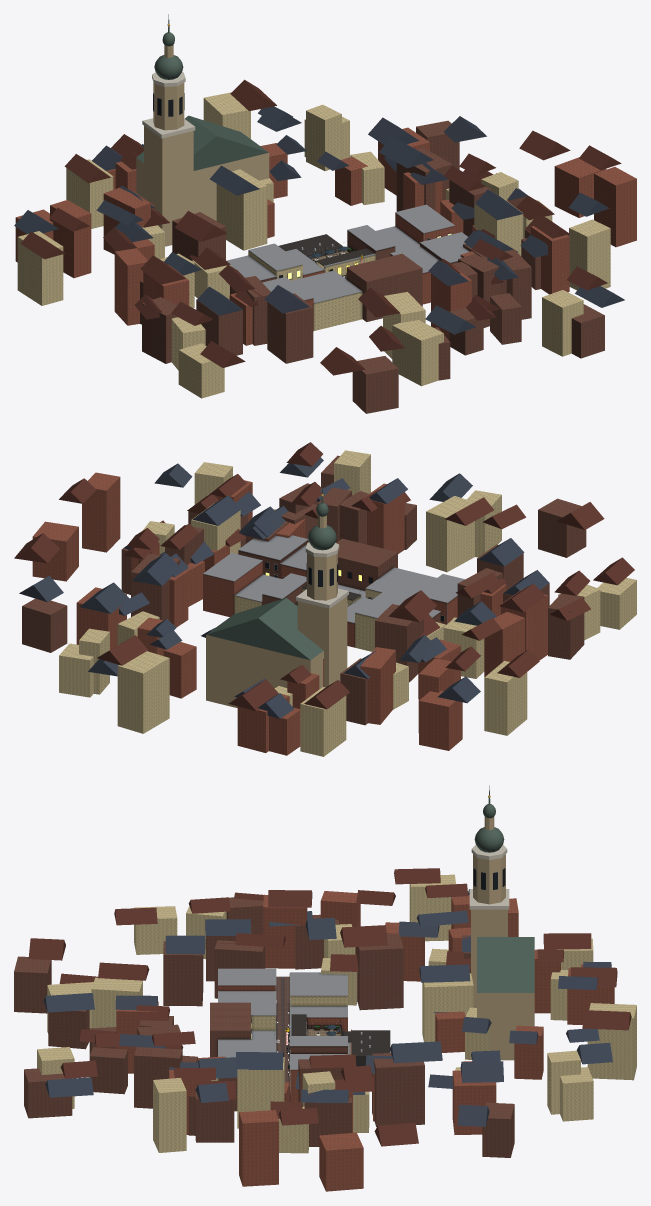
Rendered from shop.glb.
3 renders of one model, top to bottom at view 1: azimuth 30°, elevation 25°; view 2: azimuth 150°, elevation 25°; view 3: azimuth 270°, elevation 25°, orthographic. The views are drawn at different scales.
Visible parts, largest first — view 1: static_far_BrickCream, static_far_BrickDark, static_far_Brick, static_far_RoofTile, static_far_Slate, static_far_ChurchStone, static_Coping, static_BrickDark, static_far_ChurchRoof, static_BrickCream, static_Brick, static_far_Stone (+1 smaller); view 2: static_far_Brick, static_far_BrickCream, static_far_BrickDark, static_far_RoofTile, static_far_Slate, static_far_ChurchStone, static_Coping, static_far_ChurchRoof, static_BrickDark, static_Brick, static_BrickCream, static_far_Stone; view 3: static_far_BrickDark, static_far_BrickCream, static_far_Brick, static_far_RoofTile, static_far_Slate, static_Coping, static_far_ChurchStone, static_far_ChurchRoof, static_BrickDark, static_Pavers, static_far_Roof, static_BrickCream (+2 smaller).
Part boxes in pixels (bbox=[...]): static_far_BrickCream: bbox=[17, 92, 610, 398]; static_far_BrickDark: bbox=[133, 120, 604, 413]; static_far_Brick: bbox=[15, 127, 636, 345]; static_far_RoofTile: bbox=[20, 79, 621, 375]; static_far_Slate: bbox=[14, 106, 624, 334]; static_far_ChurchStone: bbox=[136, 45, 269, 246]; static_Coping: bbox=[226, 204, 469, 303]; static_BrickDark: bbox=[230, 230, 457, 321]; static_far_ChurchRoof: bbox=[136, 14, 268, 170]; static_BrickCream: bbox=[248, 250, 362, 330]; static_Brick: bbox=[303, 213, 454, 330]; static_far_Stone: bbox=[142, 72, 195, 138]; static_far_Brick: bbox=[32, 472, 547, 755]; static_far_BrickCream: bbox=[59, 450, 636, 756]; static_far_BrickDark: bbox=[22, 455, 586, 725]; static_far_RoofTile: bbox=[14, 442, 634, 711]; static_far_Slate: bbox=[19, 457, 549, 718]; static_far_ChurchStone: bbox=[206, 515, 347, 707]; static_Coping: bbox=[203, 535, 464, 623]; static_far_ChurchRoof: bbox=[206, 484, 336, 660]; static_BrickDark: bbox=[238, 538, 440, 622]; static_Brick: bbox=[203, 561, 457, 647]; static_BrickCream: bbox=[234, 589, 381, 651]; static_far_Stone: bbox=[296, 542, 348, 608]; static_far_BrickDark: bbox=[14, 897, 514, 1157]; static_far_BrickCream: bbox=[37, 874, 636, 1153]; static_far_Brick: bbox=[116, 891, 614, 1191]; static_far_RoofTile: bbox=[28, 868, 631, 1146]; static_far_Slate: bbox=[43, 889, 612, 1126]; static_Coping: bbox=[218, 968, 347, 1091]; static_far_ChurchStone: bbox=[471, 816, 534, 1060]; static_far_ChurchRoof: bbox=[474, 785, 534, 992]; static_BrickDark: bbox=[210, 1002, 347, 1057]; static_Pavers: bbox=[275, 976, 290, 1101]; static_far_Roof: bbox=[352, 1030, 390, 1066]; static_BrickCream: bbox=[251, 996, 347, 1030].
Size of the model in its own units: 152 by 61.1 by 151.
Materials: 120 (13 with a texture image).
